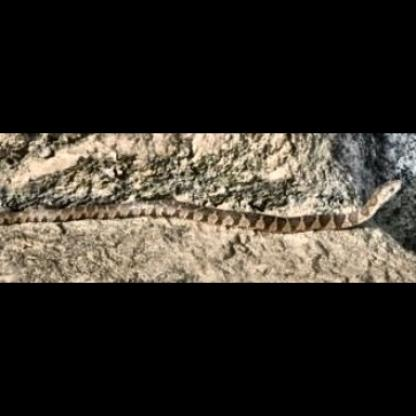Snake: (0, 176, 403, 238)
